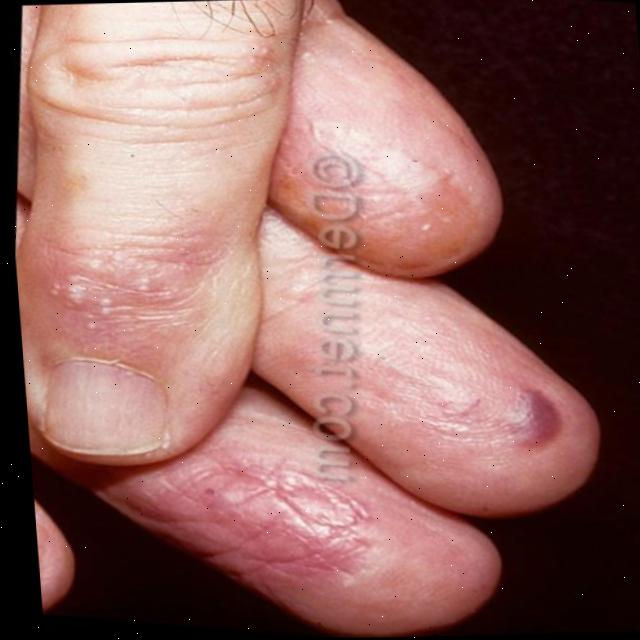Eczema: (196, 479, 364, 582), (57, 222, 181, 332), (493, 382, 566, 465), (424, 161, 468, 220)
